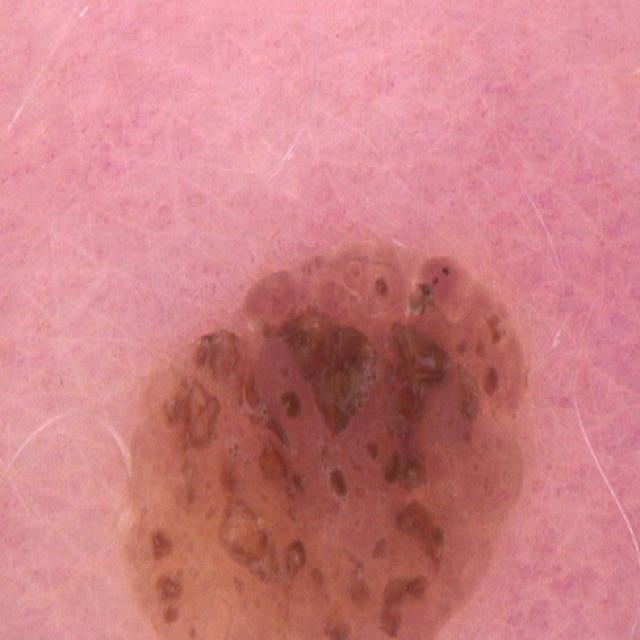Keratosis: (95, 186, 551, 640)
